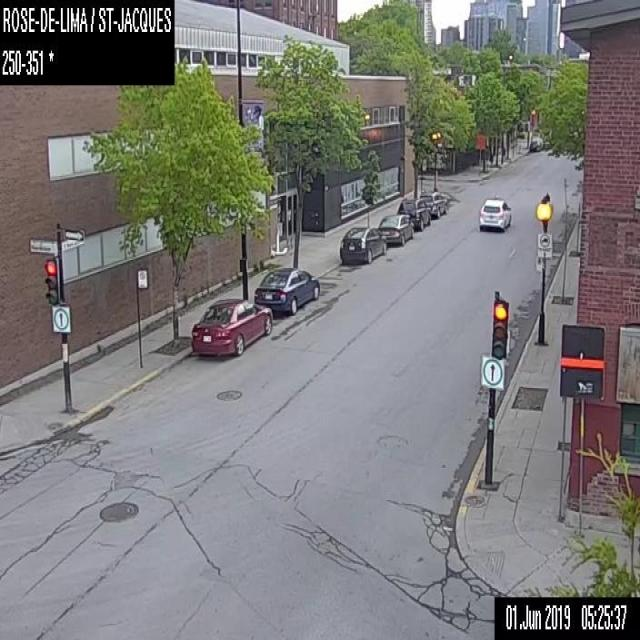construction: (474, 132, 484, 172)
vehicle: (189, 294, 273, 356), (256, 269, 320, 310), (338, 224, 383, 263), (477, 196, 511, 232), (396, 196, 431, 228), (378, 213, 413, 244), (418, 189, 448, 215), (528, 140, 540, 152)
